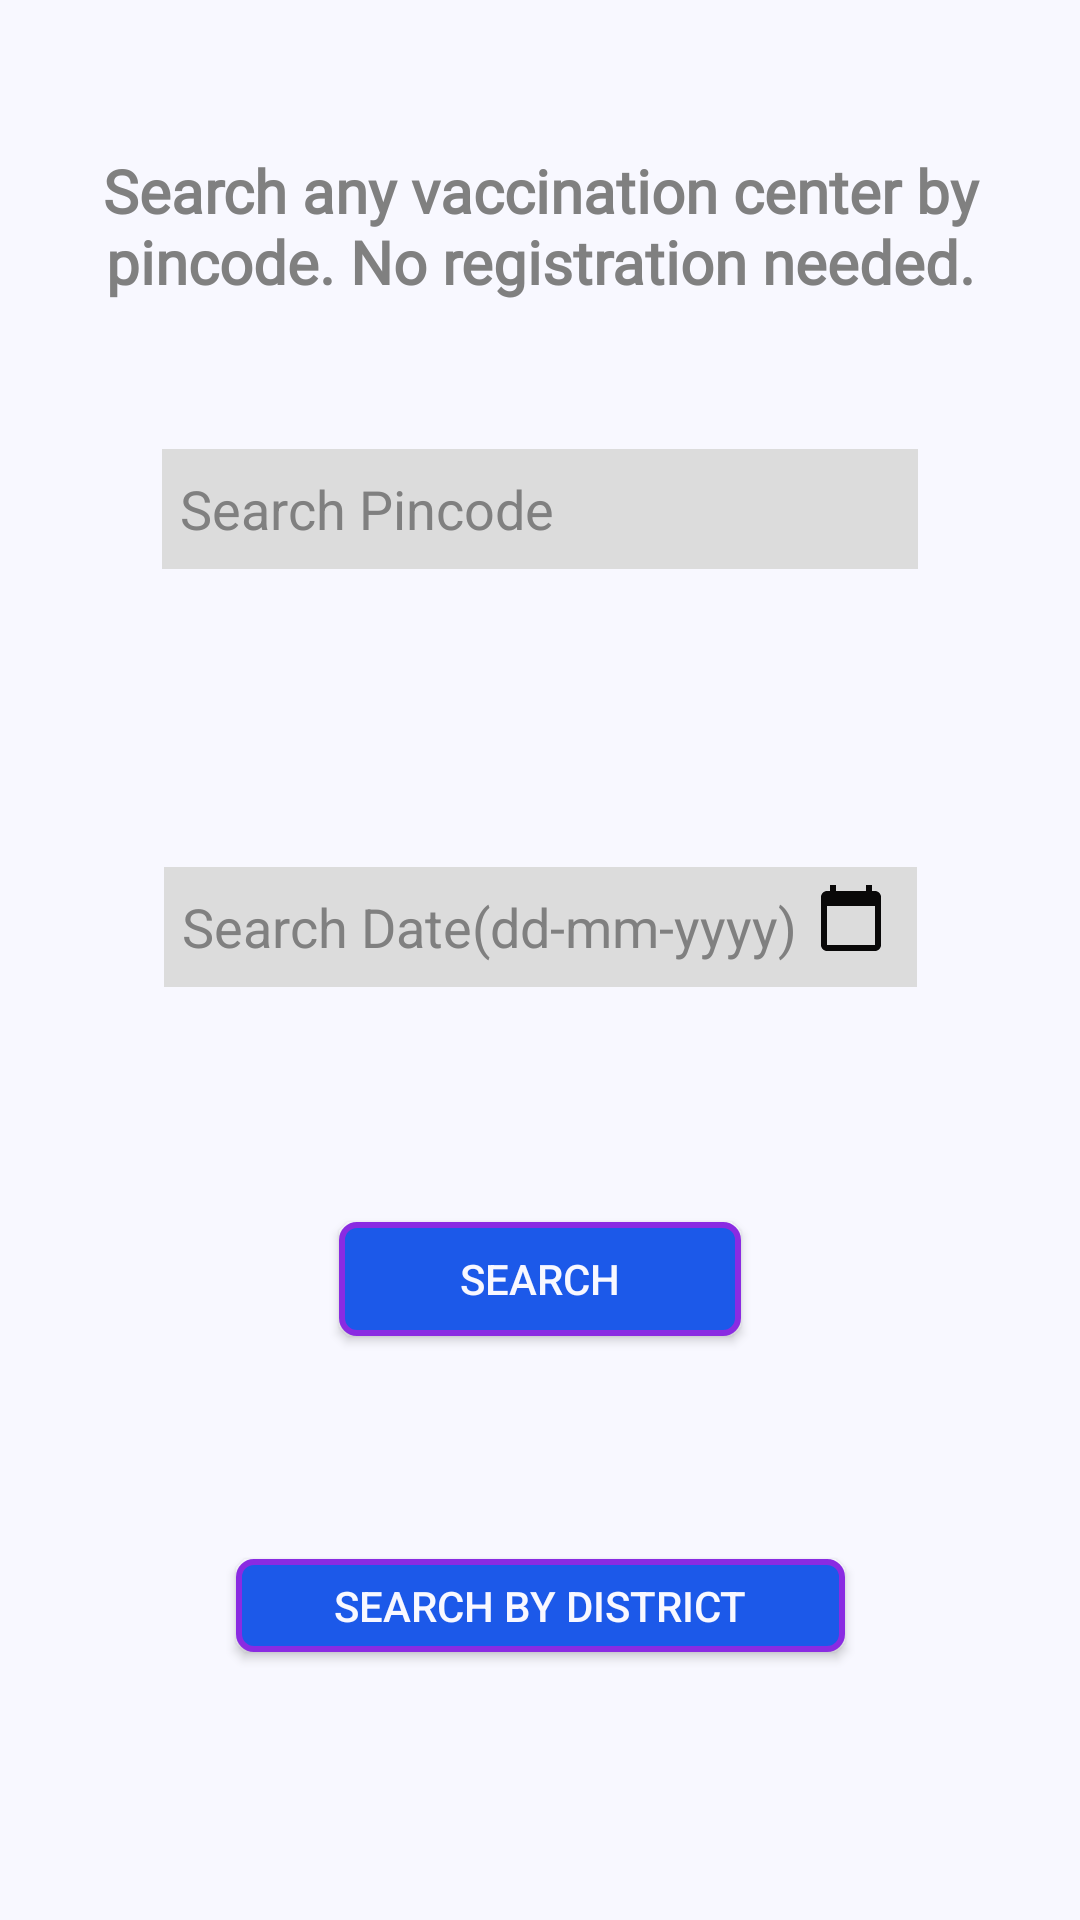

Named icons in this screenshot (1080x1920) and their bounding boxes, [x1=x1, y1=y1, x2=x2, y2=y2]:
calendar today: [x1=821, y1=885, x2=881, y2=951]
